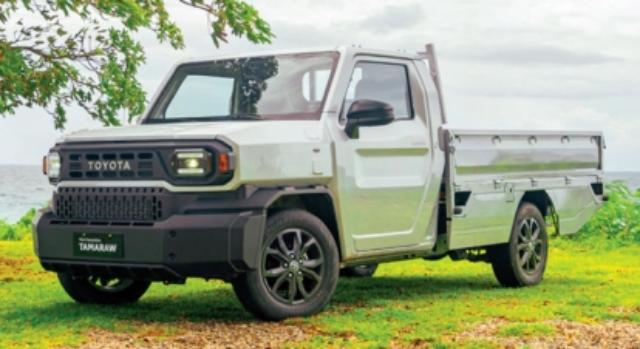pickup-truck: (26, 43, 610, 314)
